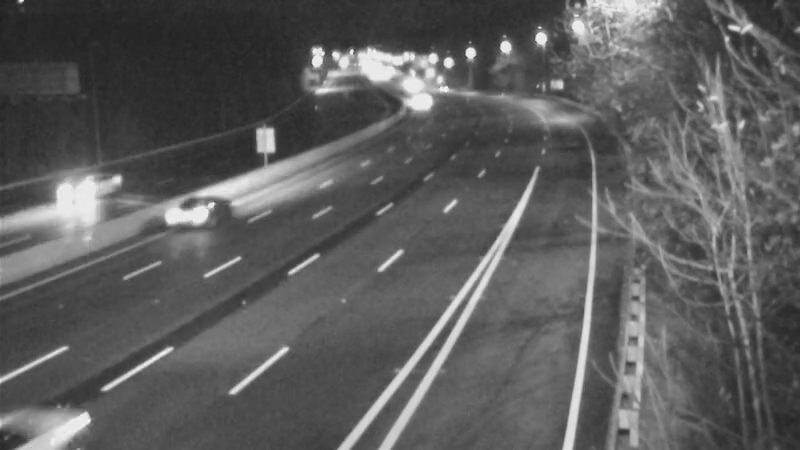vehicle: (149, 166, 229, 246), (34, 152, 114, 232), (416, 66, 466, 116), (397, 76, 447, 126)
